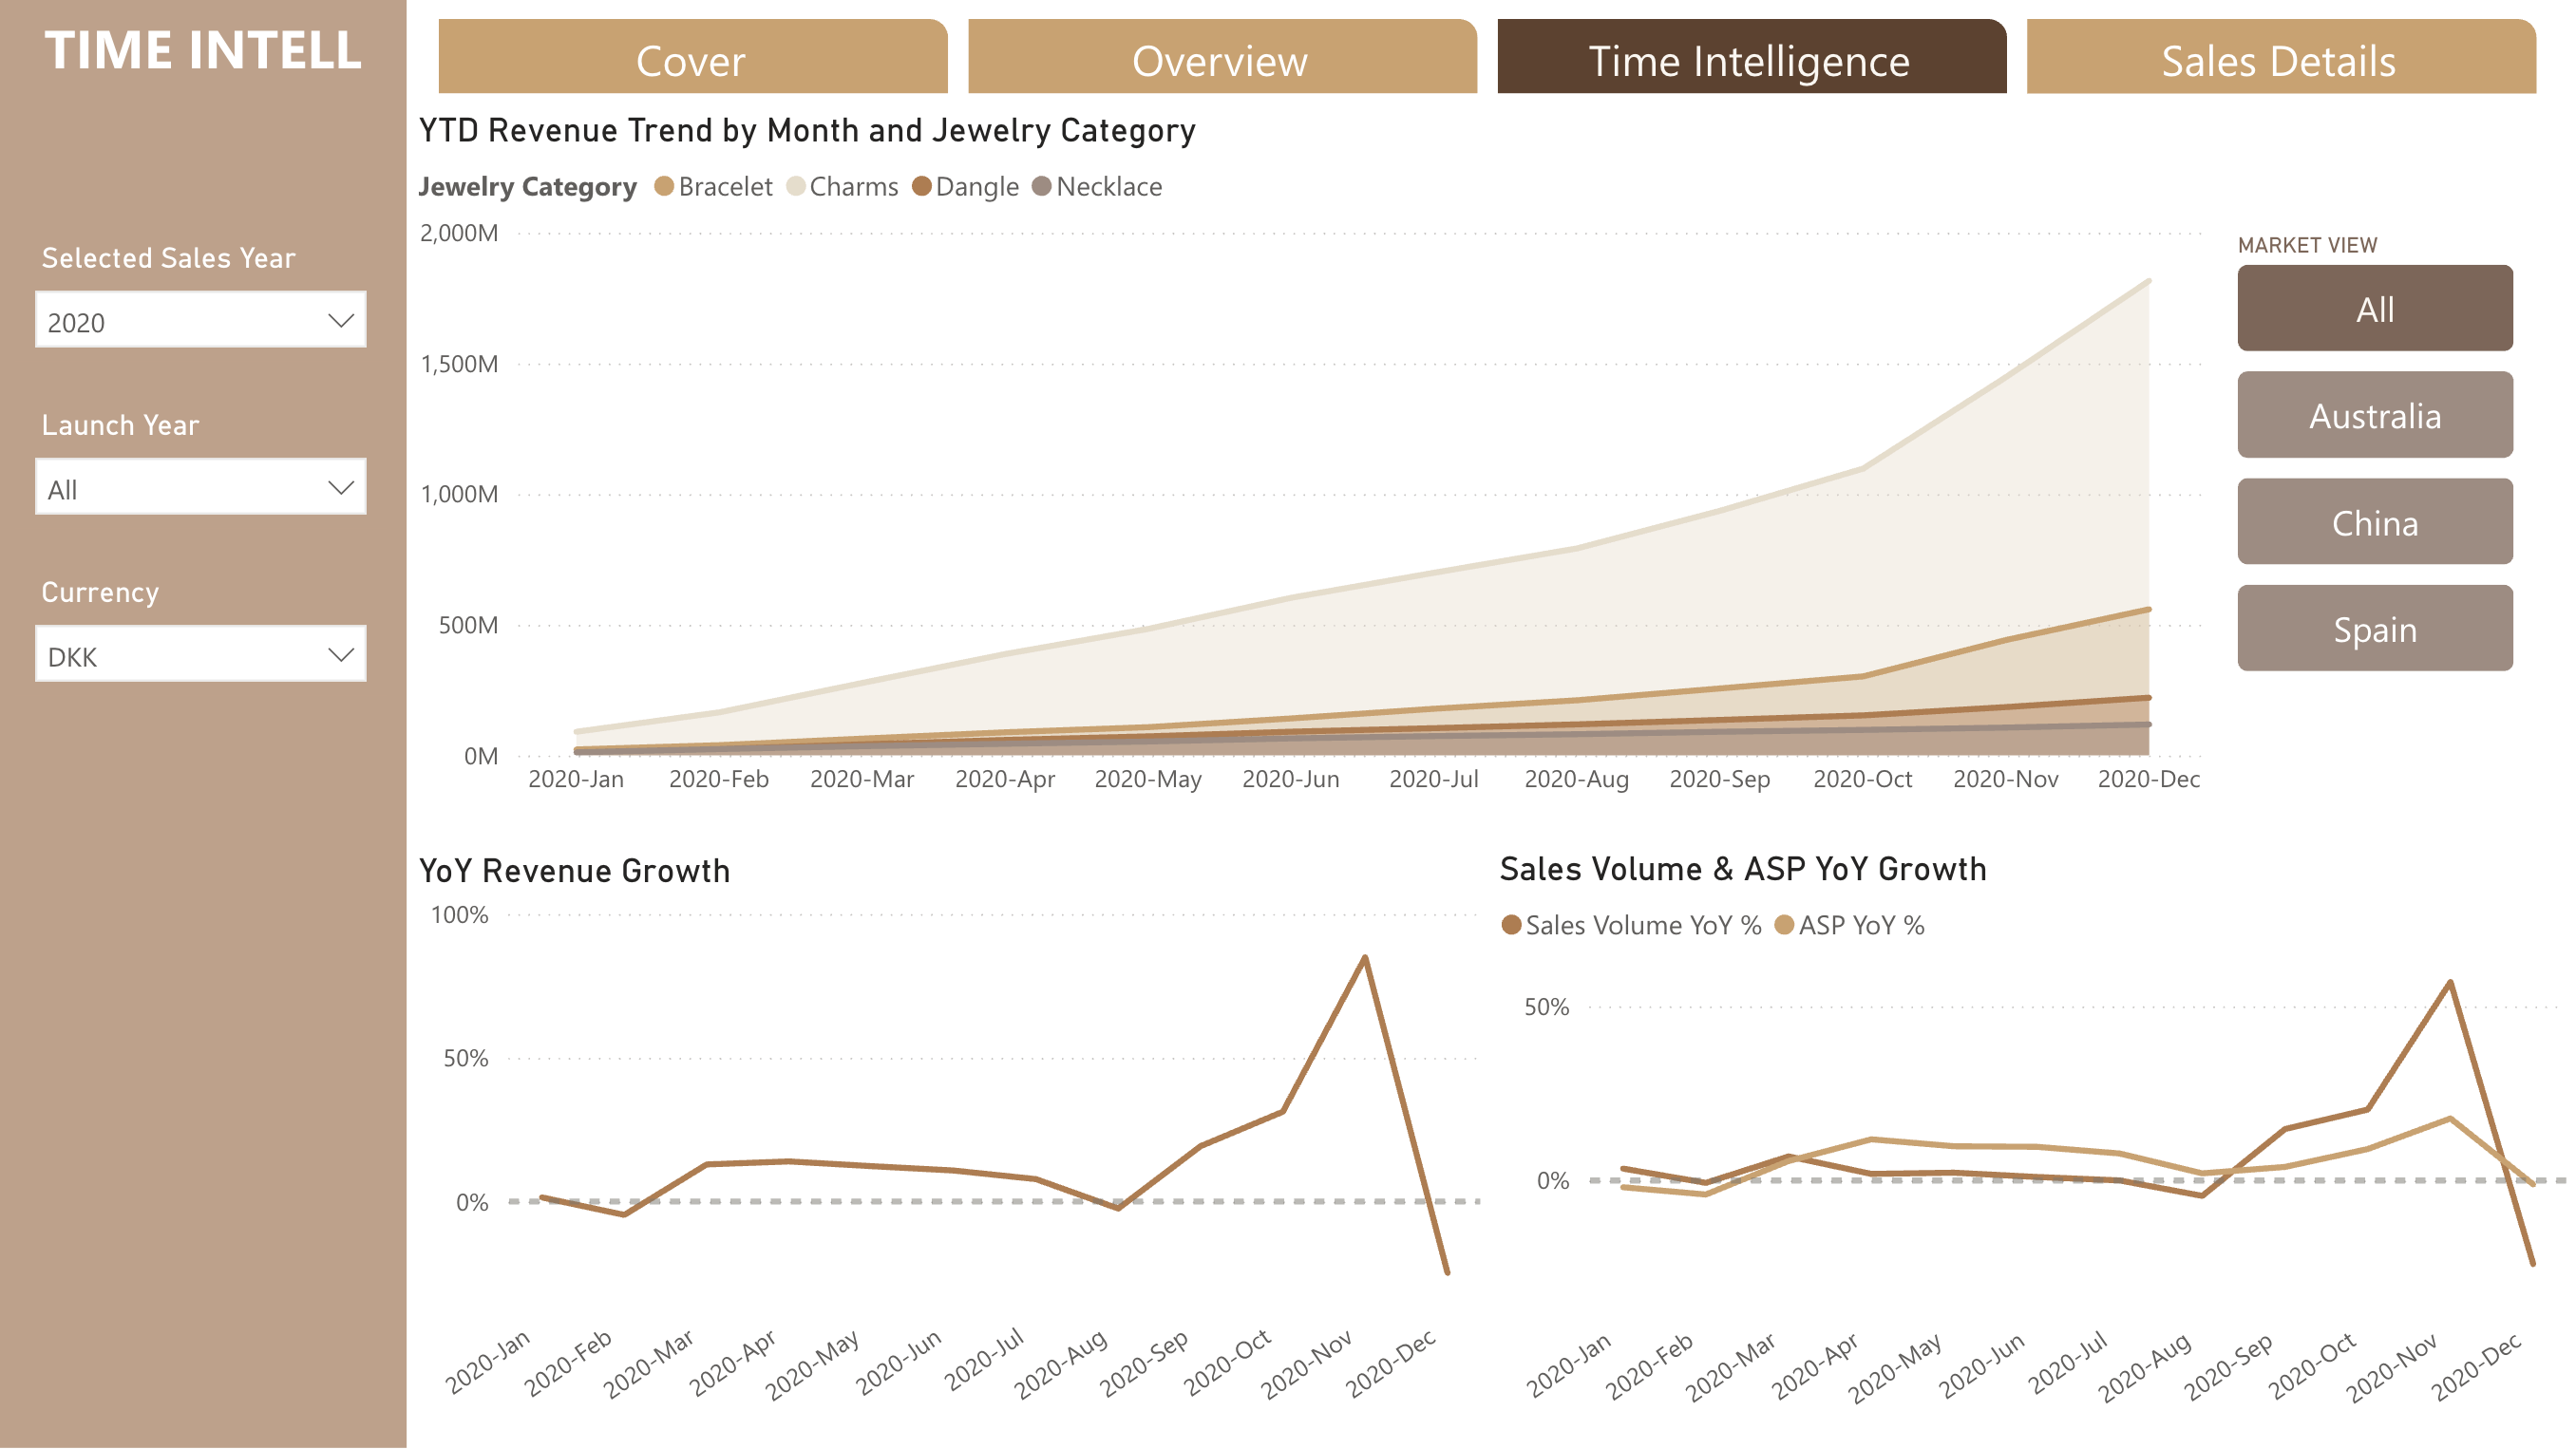

What the dashboard file says about the page in this screenshot:
{"tool":"powerbi","page":{"name":"Time Intelligence","canvas":[1280,720],"ordinal":2},"visuals":[{"type":"shape","box":[0,0,202.1,719.4],"z":0},{"type":"textbox","box":[16.5,0,185.6,47],"z":1000},{"type":"slicer","title":"Selected Sales Year","fields":{"Values":["DimDate.Year"]},"box":[7.9,116.2,184.7,63.3],"z":2000},{"type":"slicer","title":"Selected Sales Year","fields":{"Values":["DimProduct.Launch Year"]},"box":[7.7,198.7,184.7,63.3],"z":3000},{"type":"slicer","title":"Selected Sales Year","fields":{"Values":["DimCurrency.Currency"]},"box":[7.7,281.9,184.7,63.3],"z":4000},{"type":"areaChart","title":"YTD Revenue Trend by Month and Jewelry Category","fields":{"Series":["DimProduct.SubCategory"],"Y":["FactSalesOverview.TotalSales_YTD"],"Category":["DimDate.Year Month Name"]},"box":[202.7,56.2,1077.3,349.3],"z":5000},{"type":"lineChart","title":"MoM Revenue Growth","fields":{"Y":["FactSalesOverview.TotalSales_MoM%"],"Category":["DimDate.Year Month Name"]},"box":[757.3,423.8,522.7,296.8],"z":6000},{"type":"lineChart","title":"YoY Revenue Growth","fields":{"Y":["FactSalesOverview.TotalSales_YoY%"],"Category":["DimDate.Year Month Name"]},"box":[202.7,425,554.5,294.4],"z":7000},{"type":"pageNavigator","box":[218.1,9.1,1044.9,37.9],"z":8000},{"type":"bookmarkNavigator","title":"MARKET VIEW","box":[300.5,122.1,123.4,140.5],"z":9000}]}

Visuals, with their boxes in screenshot pixels (x1, y1, x2, y2), scaled from the page's 1280x720 canvas onto the 2576x1449 screenshot:
shape: (x1=0, y1=0, x2=407, y2=1448)
textbox: (x1=33, y1=0, x2=407, y2=95)
"Selected Sales Year" slicer: (x1=16, y1=234, x2=388, y2=361)
"Selected Sales Year" slicer: (x1=15, y1=400, x2=388, y2=527)
"Selected Sales Year" slicer: (x1=15, y1=567, x2=388, y2=695)
"YTD Revenue Trend by Month and Jewelry Category" areaChart: (x1=407, y1=113, x2=2575, y2=816)
"MoM Revenue Growth" lineChart: (x1=1525, y1=853, x2=2575, y2=1448)
"YoY Revenue Growth" lineChart: (x1=407, y1=856, x2=1524, y2=1448)
pageNavigator: (x1=439, y1=18, x2=2542, y2=95)
"MARKET VIEW" bookmarkNavigator: (x1=605, y1=246, x2=853, y2=529)
